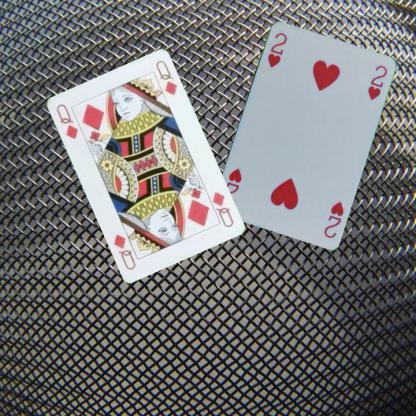2h: (321, 198, 345, 239), (265, 29, 288, 69)
Qd: (202, 188, 234, 229), (53, 101, 79, 141)
